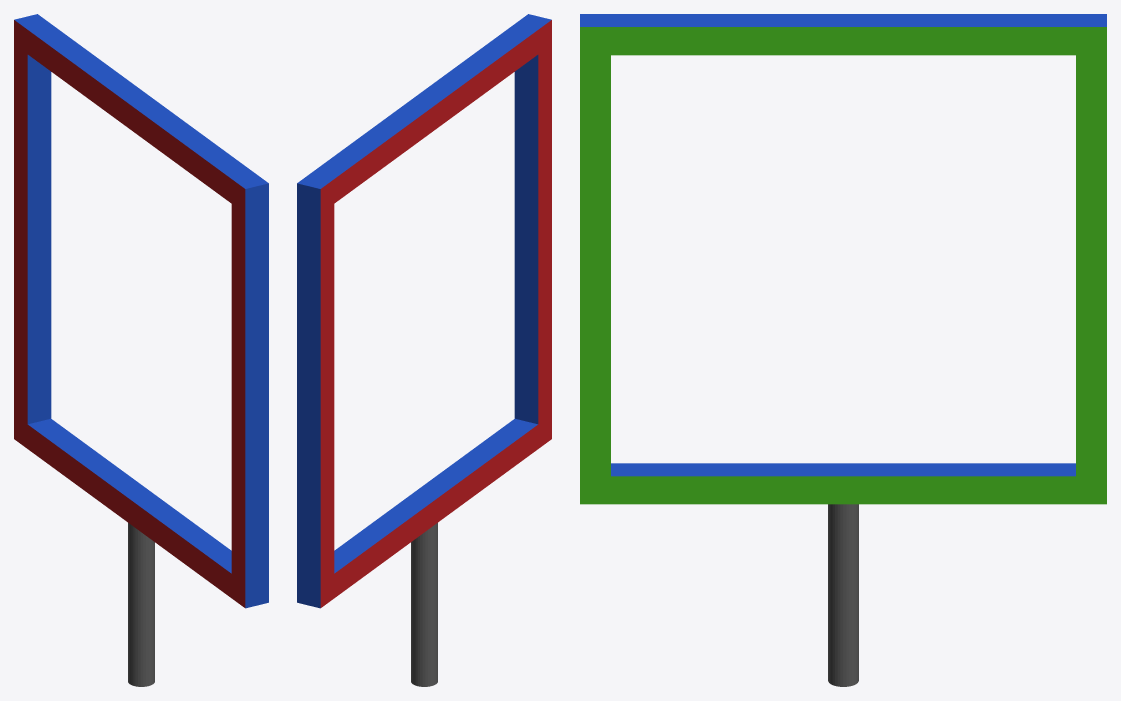
The model's file is frame_1_5.dae.
3 views of the same model, side by side, from view 1: azimuth 30°, elevation 25°; view 2: azimuth 150°, elevation 25°; view 3: azimuth 270°, elevation 25° (orthographic). The views are drawn at different scales.
Parts seen in each view (by area): view 1: Plane; view 2: Plane; view 3: Plane.
Part boxes in pixels (left/top/right/bottom): Plane: left=14, top=14, right=268, bottom=686; Plane: left=297, top=14, right=551, bottom=686; Plane: left=580, top=14, right=1106, bottom=686.
Size of the model in its own units: 0.0647 by 1.1 by 1.52.
Materials: 1 (1 with a texture image).
